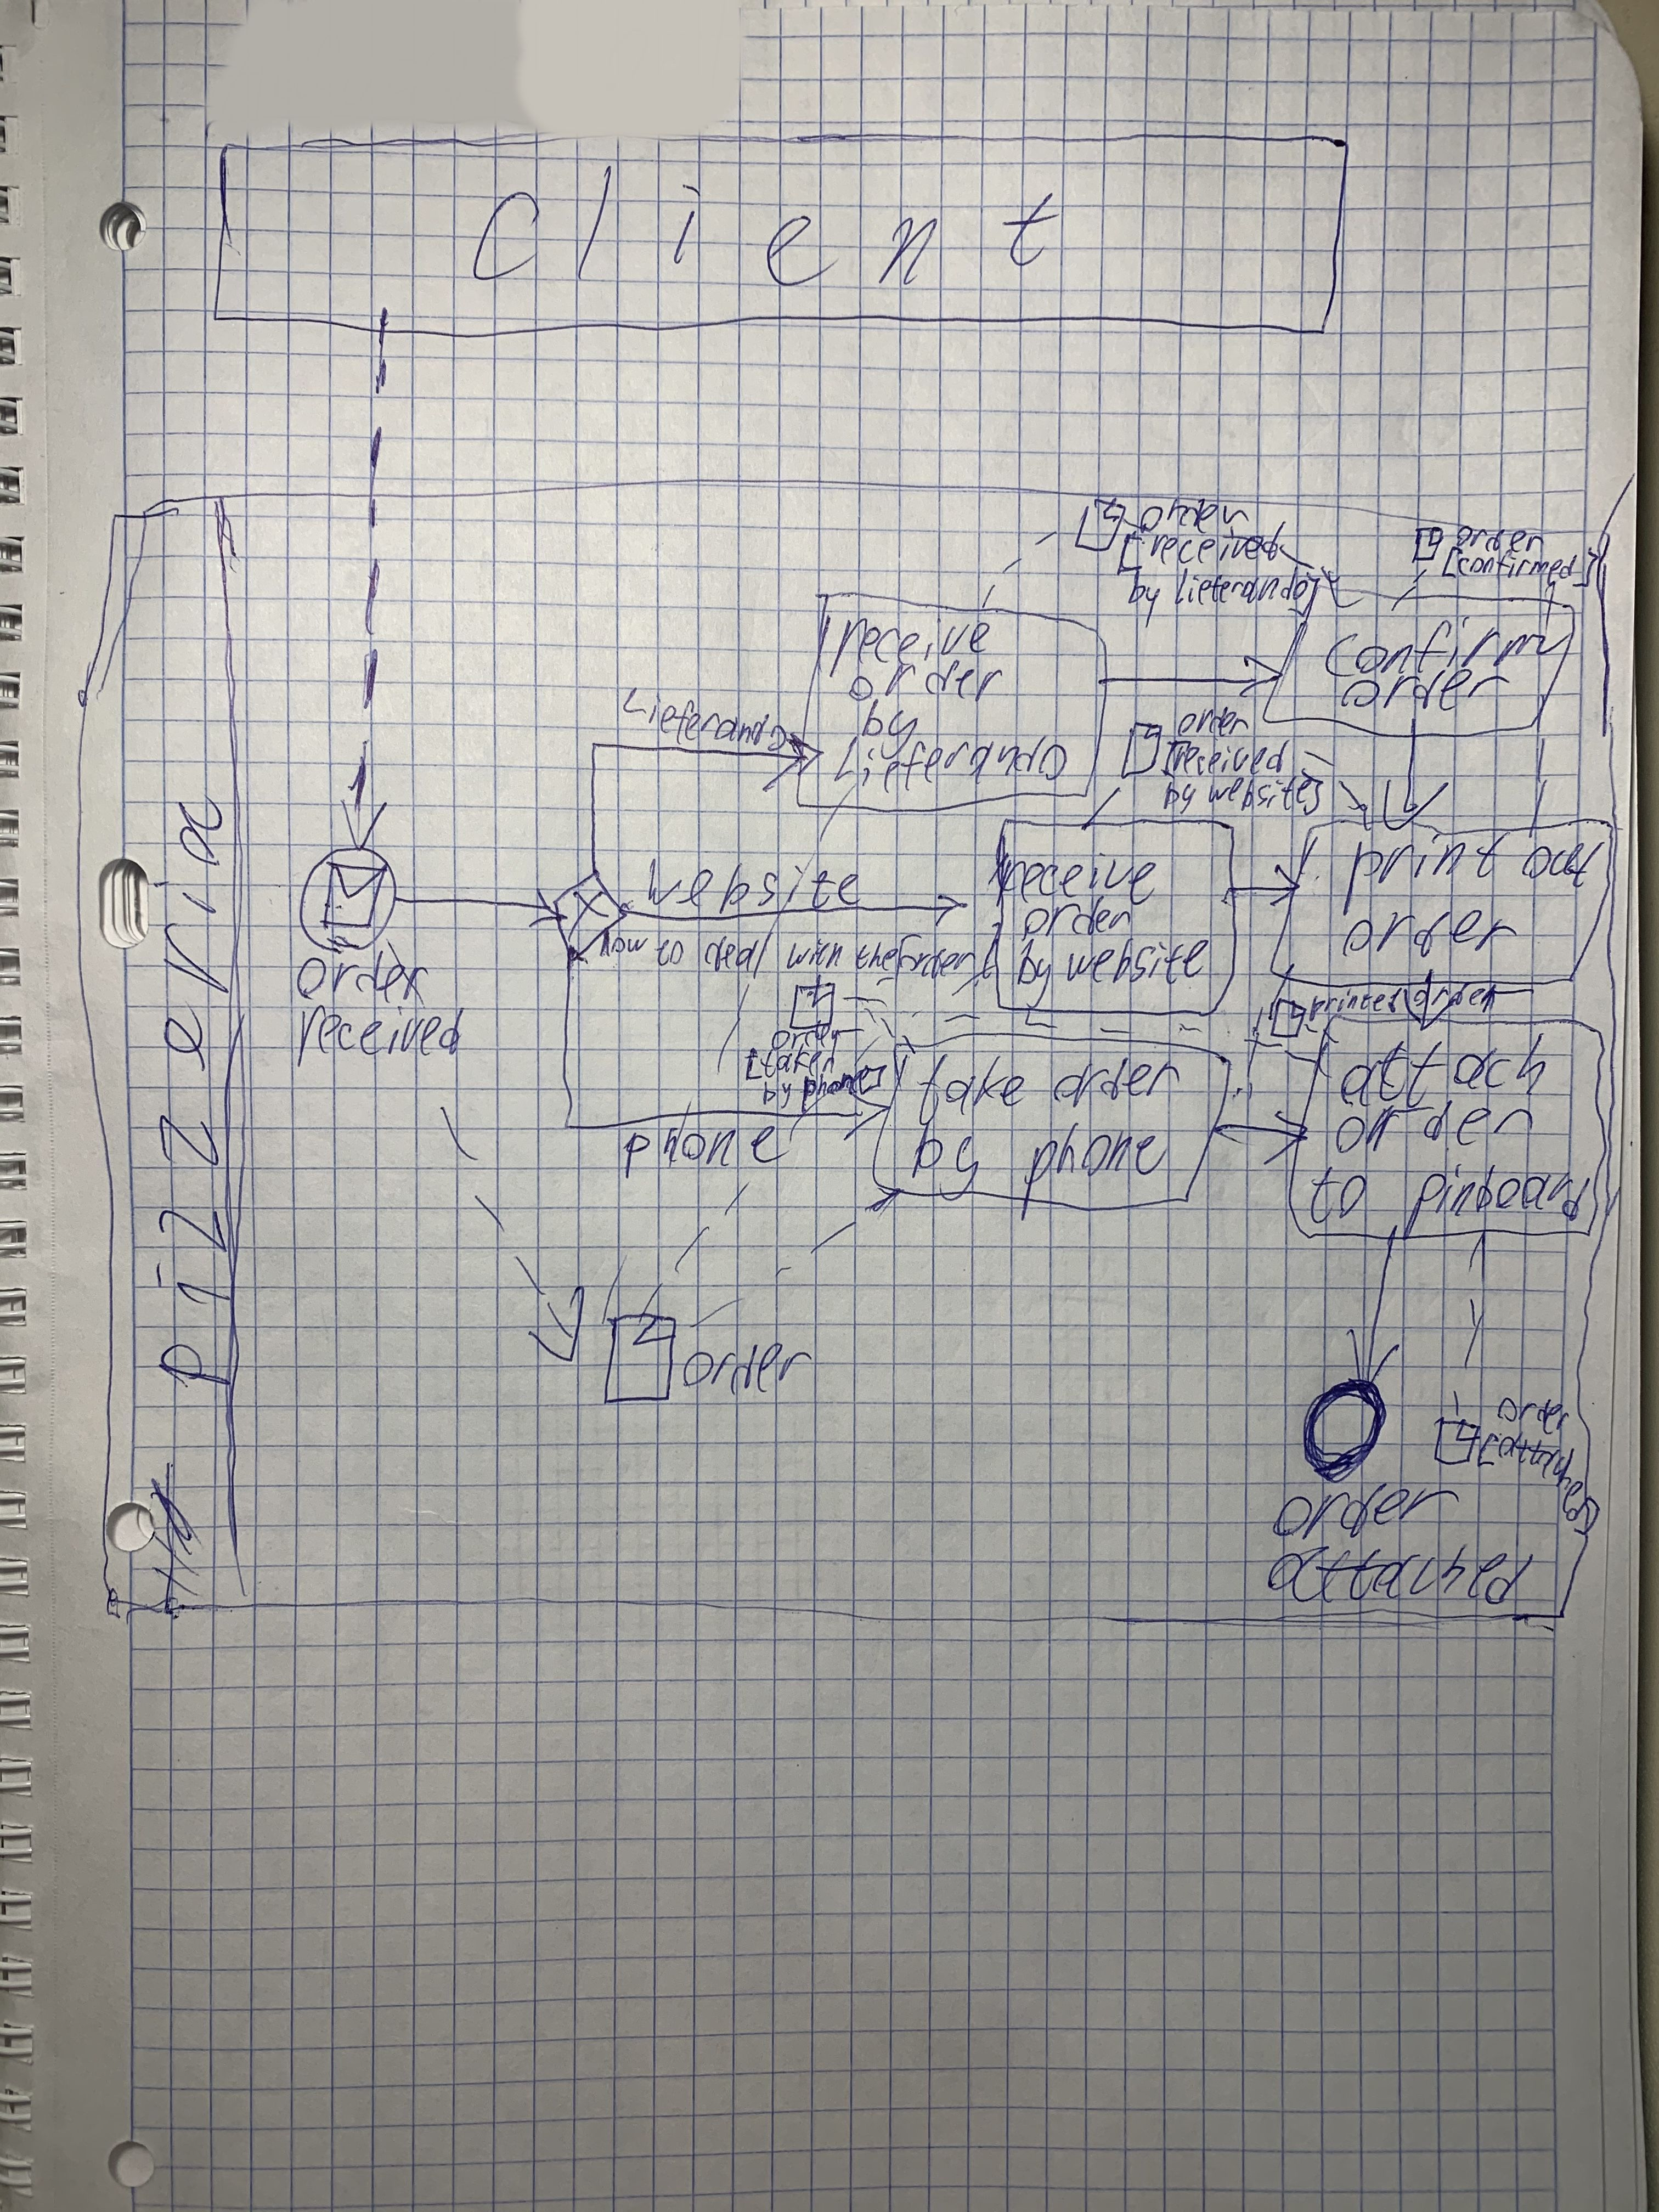Lieferando: (833, 735, 1070, 784), (619, 688, 789, 752)
Lieferando]: (1171, 571, 1321, 617)
[attached]: (1476, 1435, 1600, 1538)
[confirmed]: (1441, 545, 1600, 589)
[order]: (896, 923, 1000, 982)
[received: (1115, 528, 1281, 573), (1161, 737, 1291, 777)
[taken: (742, 1045, 836, 1080)
attach: (1338, 1038, 1551, 1104)
attached: (1267, 1543, 1537, 1608)
by: (913, 1122, 983, 1202), (861, 698, 920, 756), (1018, 937, 1054, 1008), (1129, 570, 1162, 627), (1162, 780, 1199, 815), (762, 1080, 795, 1108)
client: (465, 155, 1061, 293)
confirm: (1324, 615, 1561, 679)
deal: (704, 934, 758, 974)
how: (599, 925, 650, 960)
order: (1270, 1479, 1459, 1541), (1335, 1099, 1534, 1155), (1338, 909, 1521, 960), (1053, 1052, 1183, 1108), (847, 658, 1006, 704), (681, 1341, 809, 1397), (295, 951, 430, 1001), (1340, 671, 1513, 709), (1021, 895, 1134, 939), (1138, 496, 1253, 533), (1495, 1395, 1574, 1435), (769, 1021, 857, 1052), (1413, 982, 1511, 1010), (1455, 524, 1547, 552), (1176, 705, 1251, 738)
out: (1521, 840, 1605, 890)
phone: (1023, 1120, 1169, 1197), (622, 1122, 784, 1181)
phone]: (802, 1064, 890, 1108)
pinboard: (1396, 1162, 1593, 1233)
pizzeria: (155, 794, 230, 1390)
print: (1340, 831, 1507, 913)
printed: (1307, 986, 1403, 1022)
receive: (988, 852, 1159, 906), (831, 617, 992, 669)
received: (295, 1005, 465, 1069)
take: (917, 1055, 1028, 1127)
the: (854, 941, 899, 974)
to: (1309, 1163, 1368, 1224), (653, 937, 687, 968)
website: (647, 857, 864, 911), (1065, 935, 1211, 984)
website]: (1206, 768, 1324, 817)
with: (784, 937, 845, 972)
